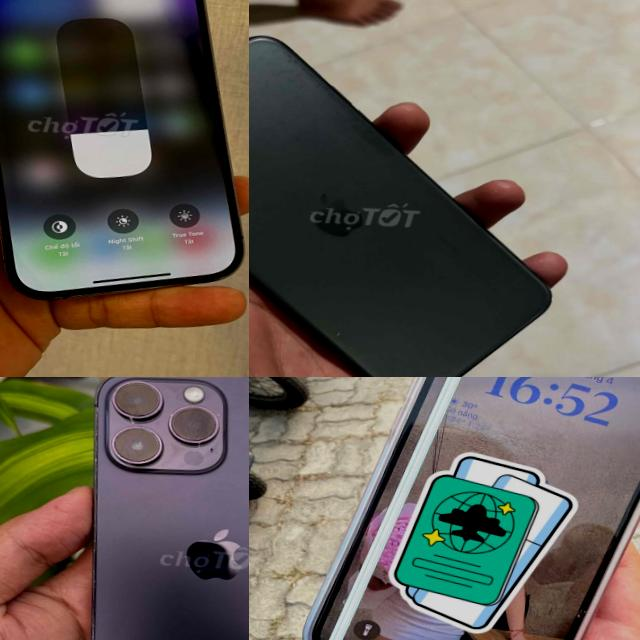gen_11: (249, 36, 550, 377), (296, 377, 640, 640)
gen_14: (0, 0, 249, 307), (76, 377, 249, 640)
